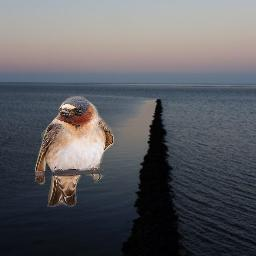Swallow: (35, 96, 114, 207)
